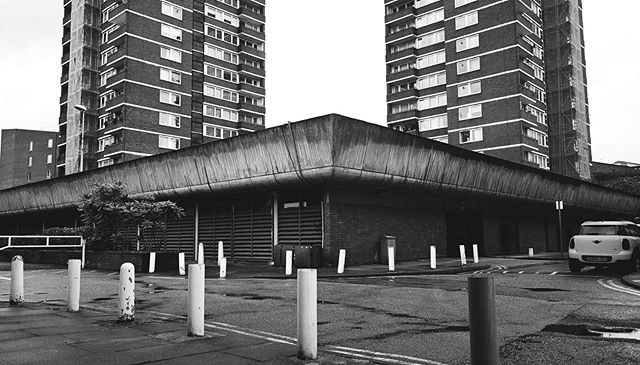building: (1, 144, 640, 268), (58, 1, 265, 159), (390, 1, 588, 146), (1, 126, 58, 187)
car: (564, 220, 640, 269)
sky: (266, 1, 383, 124), (1, 1, 59, 132)
street: (3, 266, 640, 365)
tree: (75, 182, 179, 252)
